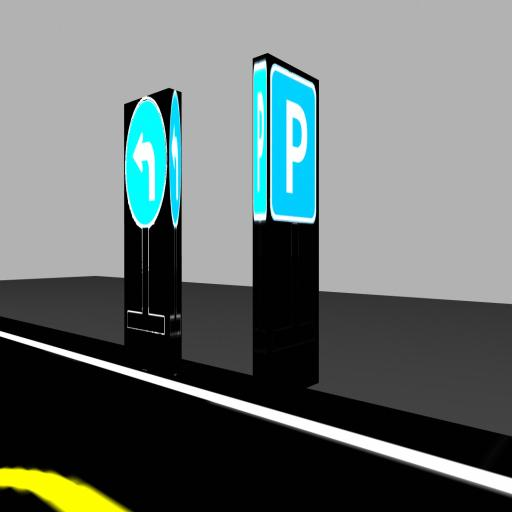Left Turn Sign: (126, 98, 166, 227), (169, 91, 181, 228)
Parking Allowed: (270, 64, 317, 222), (253, 61, 267, 220)
